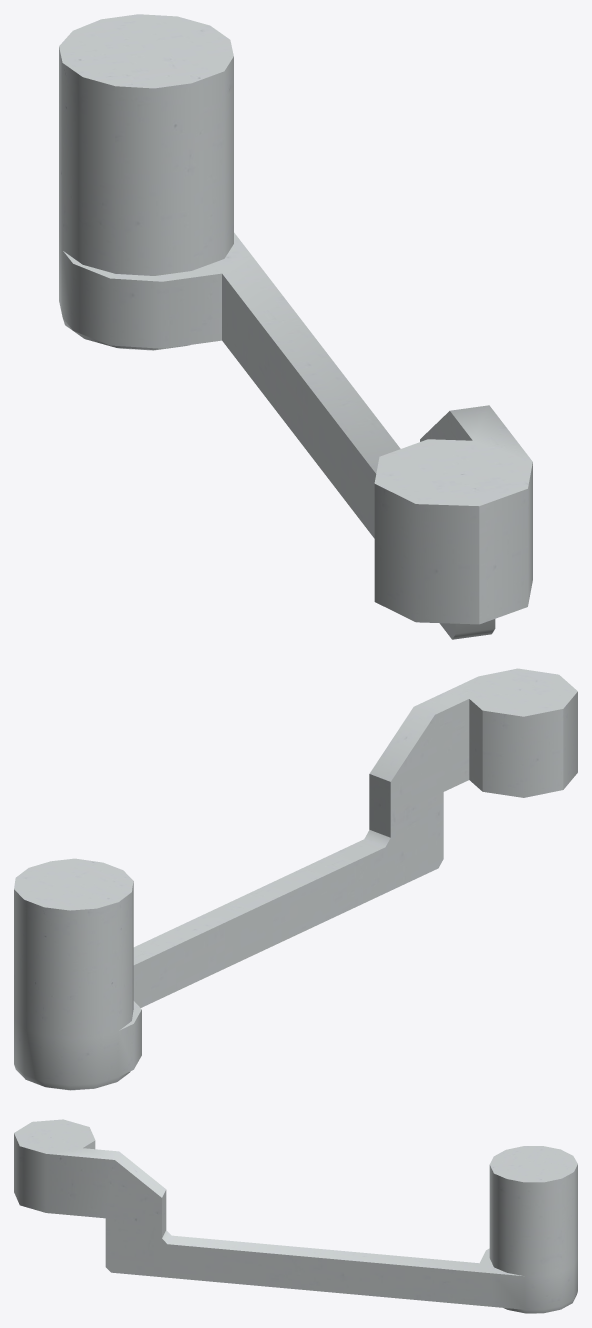
Rendered from SM_光谱仪_旋转01.FBX.
3 views of the same model, one above another, from view 1: azimuth 30°, elevation 25°; view 2: azimuth 150°, elevation 25°; view 3: azimuth 270°, elevation 25° (orthographic). The views are drawn at different scales.
Visible parts, largest first — view 1: SM_光谱仪_旋转01; view 2: SM_光谱仪_旋转01; view 3: SM_光谱仪_旋转01.
Boxes of the visible parts, x1,y1,x2,y2 form: SM_光谱仪_旋转01: (59, 14, 532, 639); SM_光谱仪_旋转01: (14, 668, 577, 1090); SM_光谱仪_旋转01: (14, 1119, 577, 1313).
Bounding box in the file's own units: 0.1138 × 0.0928 × 0.3505.
